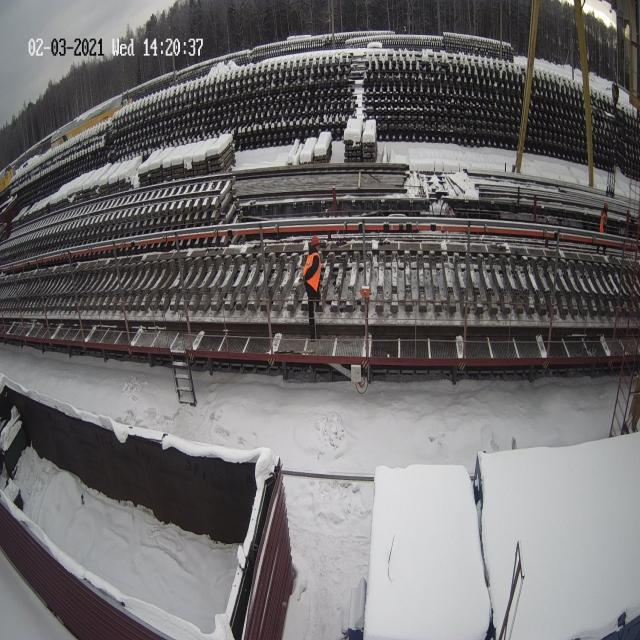Helmet: (311, 235, 320, 247)
Person: (302, 235, 322, 340), (596, 202, 608, 254)
